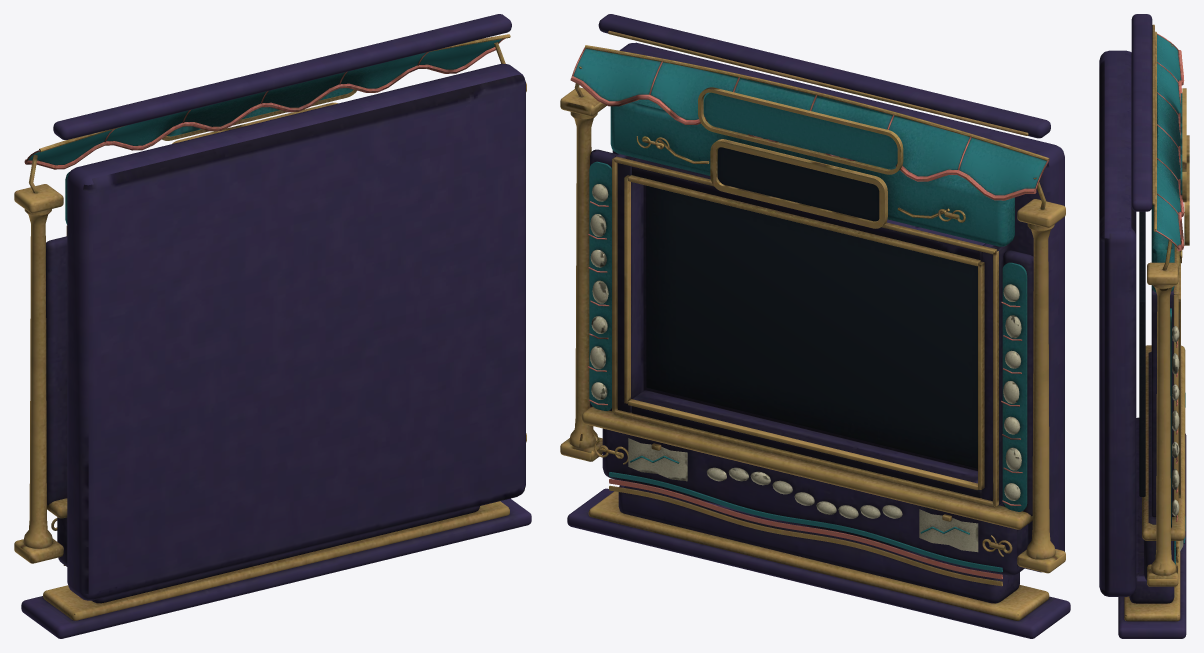
The picture shows the model from 3 angles, left to right: view 1: azimuth 30°, elevation 25°; view 2: azimuth 150°, elevation 25°; view 3: azimuth 270°, elevation 25°; orthographic projection. The views are drawn at different scales.
Visible parts, largest first — view 1: Violet_enamel, Salt_brushed_brass, Woven_teal_canvas, Woven_coral_ribbon; view 2: Uniform_midnight_inset, Violet_enamel, Salt_brushed_brass, Woven_teal_canvas, Ivory_paper_and_pale_shore_stone, Woven_coral_ribbon; view 3: Violet_enamel, Salt_brushed_brass, Woven_teal_canvas, Uniform_midnight_inset, Woven_coral_ribbon, Ivory_paper_and_pale_shore_stone.
Part boxes in pixels (x1=…): Violet_enamel: x1=21, y1=14, x2=531, y2=638; Salt_brushed_brass: x1=14, y1=34, x2=526, y2=620; Woven_teal_canvas: x1=28, y1=39, x2=502, y2=224; Woven_coral_ribbon: x1=24, y1=38, x2=504, y2=169; Uniform_midnight_inset: x1=646, y1=147, x2=977, y2=468; Violet_enamel: x1=567, y1=14, x2=1070, y2=638; Salt_brushed_brass: x1=560, y1=30, x2=1065, y2=620; Woven_teal_canvas: x1=573, y1=48, x2=1046, y2=572; Ivory_paper_and_pale_shore_stone: x1=590, y1=184, x2=1021, y2=552; Woven_coral_ribbon: x1=570, y1=47, x2=1049, y2=579; Violet_enamel: x1=1099, y1=14, x2=1186, y2=638; Salt_brushed_brass: x1=1124, y1=24, x2=1189, y2=621; Woven_teal_canvas: x1=1151, y1=34, x2=1185, y2=564; Uniform_midnight_inset: x1=1139, y1=211, x2=1145, y2=496; Woven_coral_ribbon: x1=1155, y1=33, x2=1184, y2=521; Ivory_paper_and_pale_shore_stone: x1=1172, y1=326, x2=1183, y2=551.
Size of the model in its own units: 9.62 by 9.3 by 1.76.
6 materials, 6 textured.
